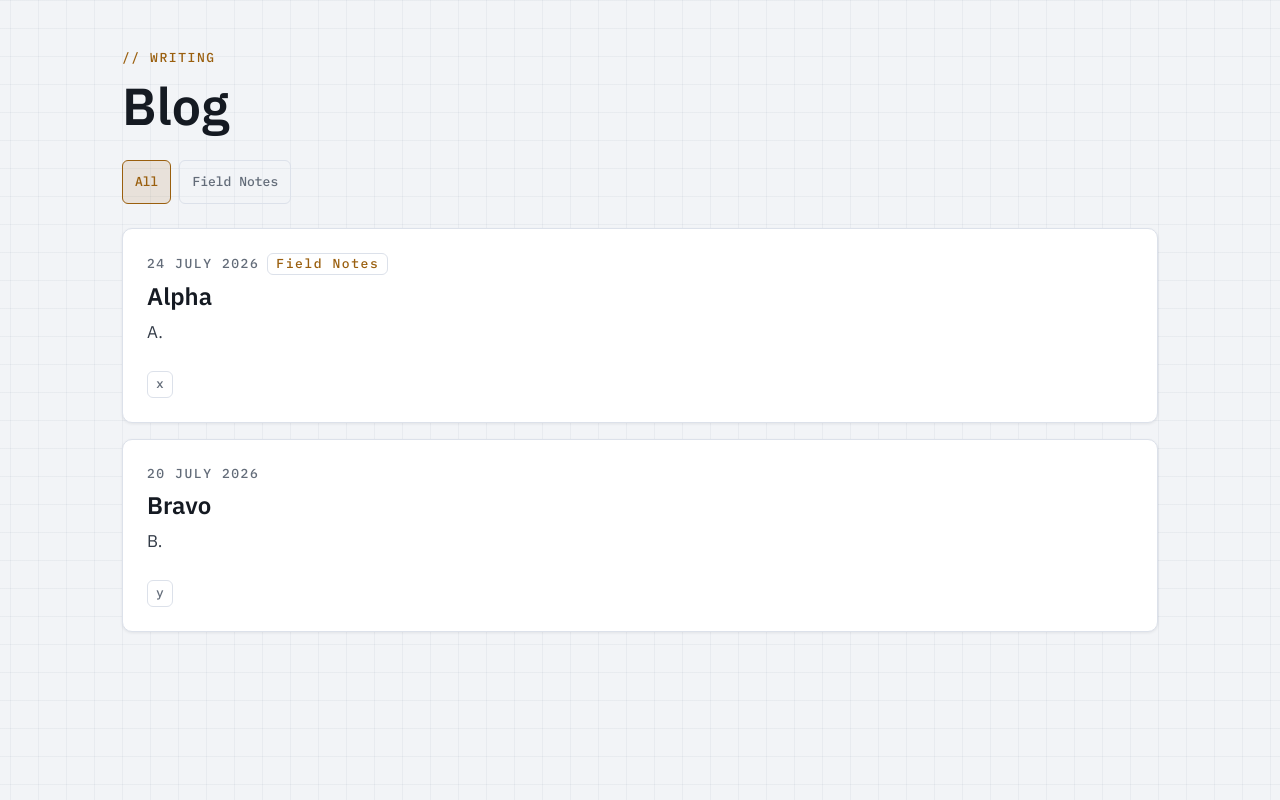
Test: BlogIndexPage (spec §3.5, §4.1) › renders a blog-name chip on cards (none when null) and a blog filter that round-trips through the URL
Expected: the heading "Alpha" is shown, [147,280,212,312]
Expected: the text "Field Notes" is shown, [267,253,388,275]
Click the button "Field Notes" at (235, 182), box [179,160,291,204]
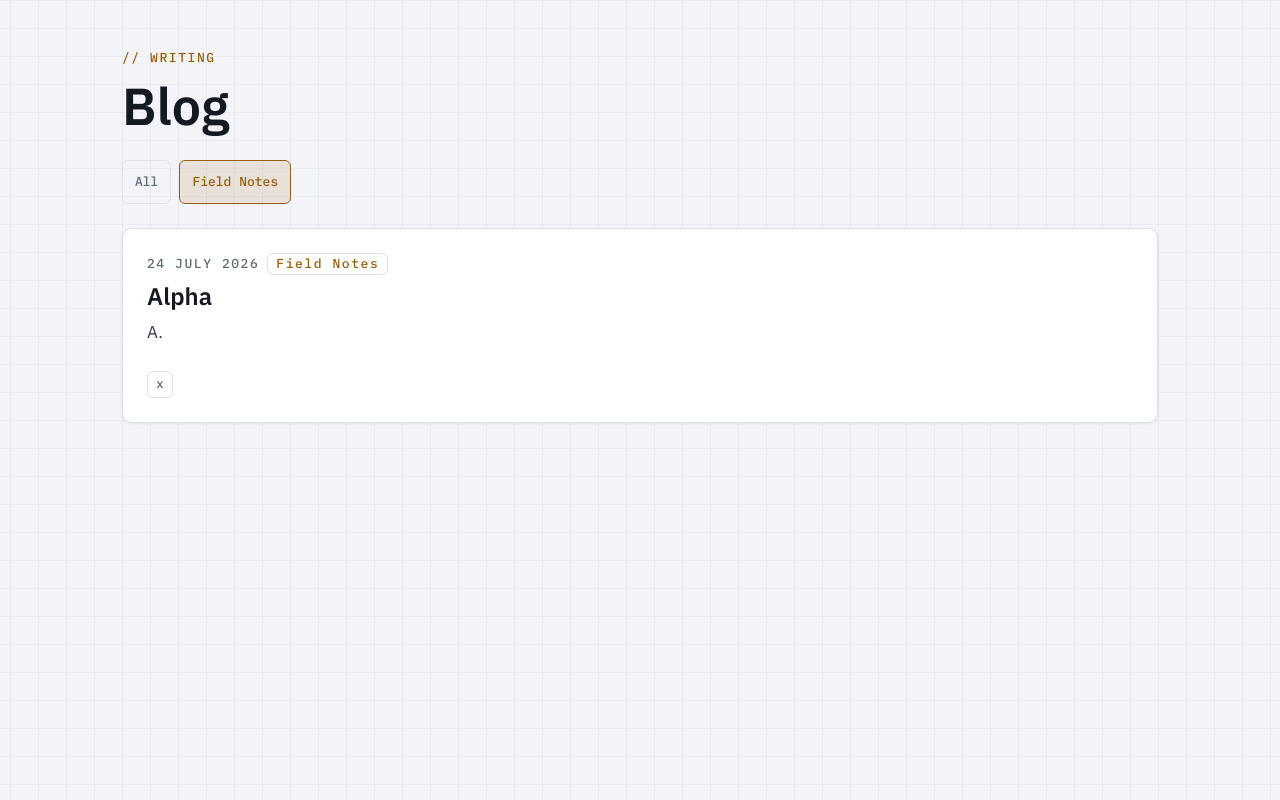
Expected: the link "Bravo" is gone
